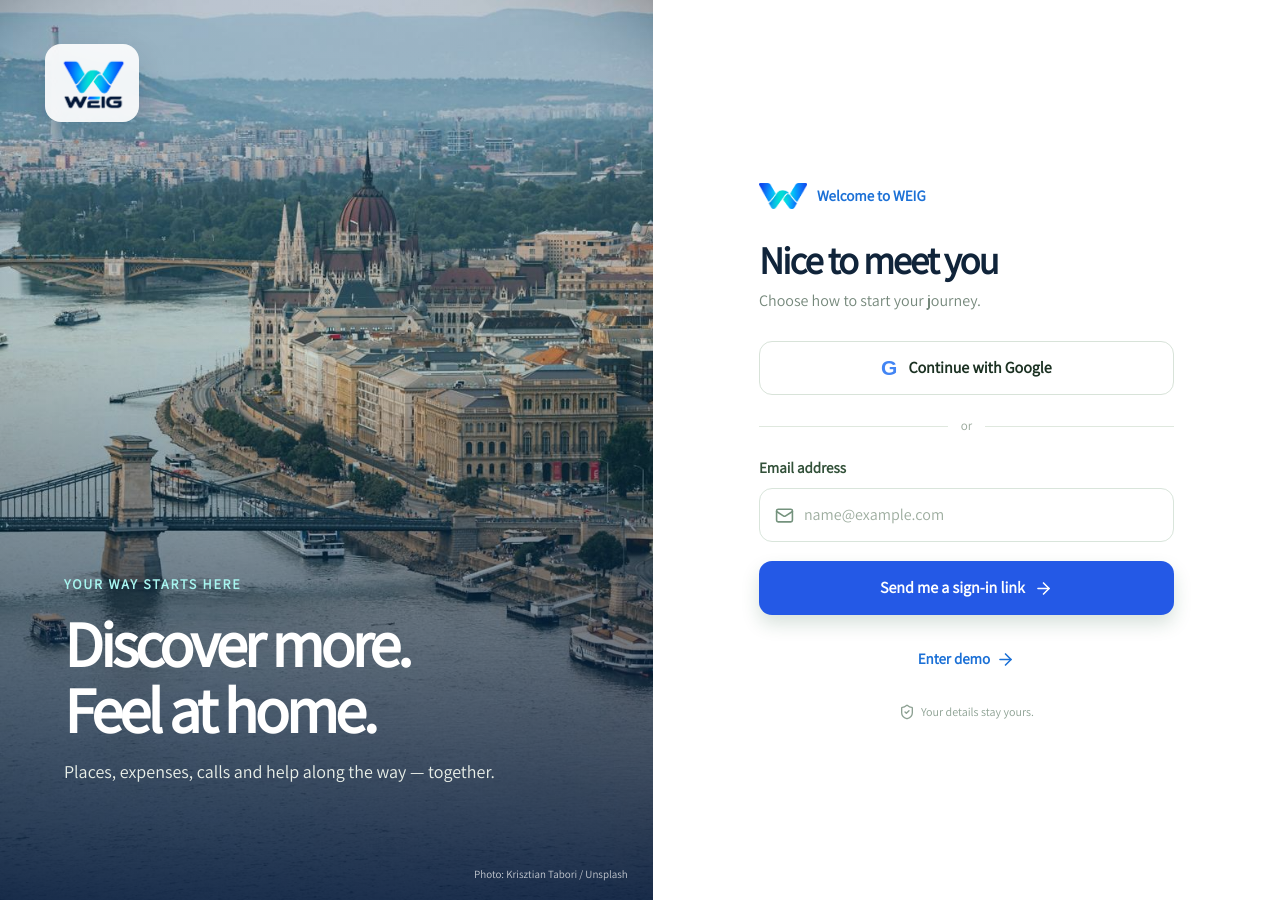
Test case: Milestone 2 experiences › continues email authentication to the sign-in-link state
In the field labelled "Email address": (981, 515) [804,503,1158,527], type "demo@example.com"
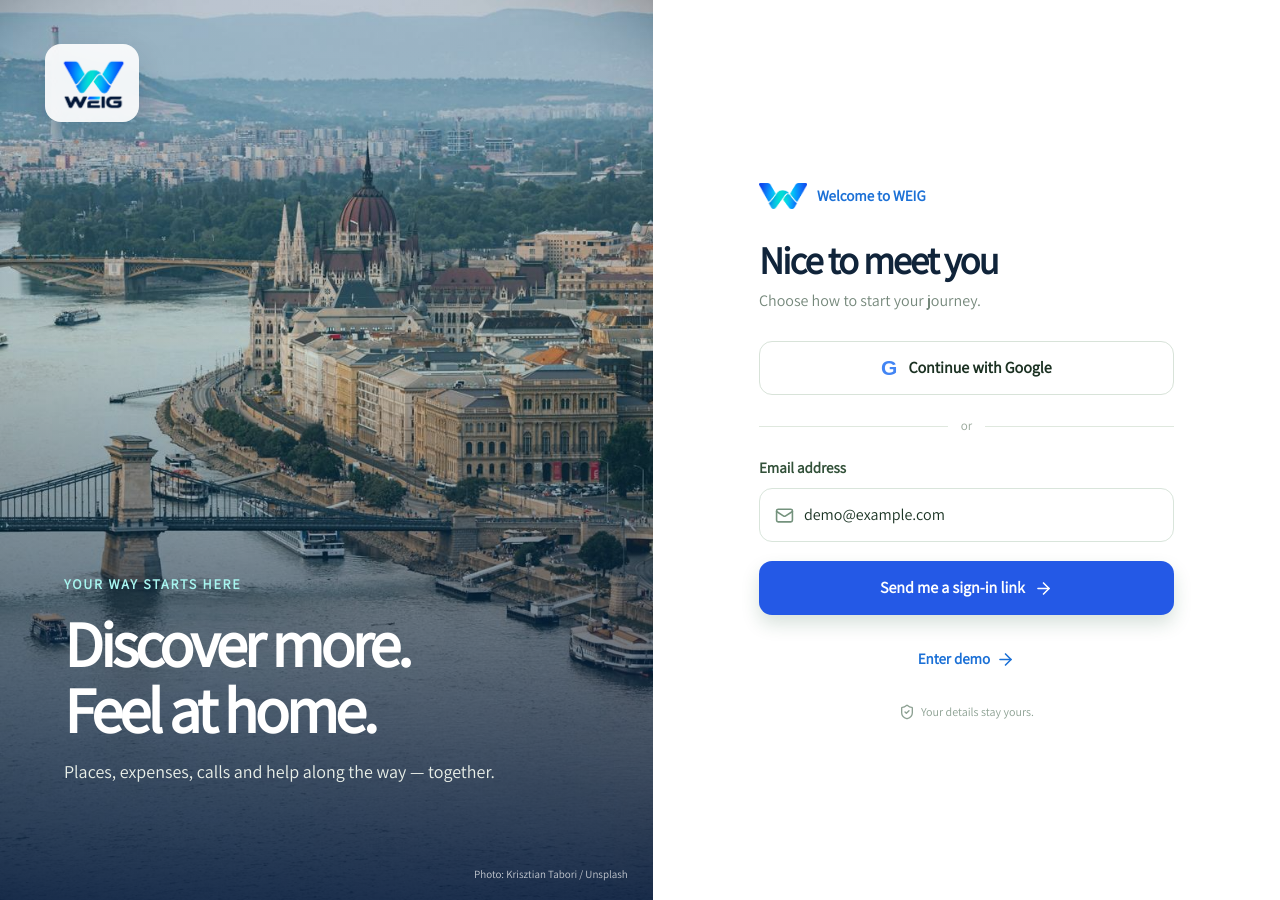
Click the button "Send me a sign-in link": (966, 588) [759,561,1174,615]
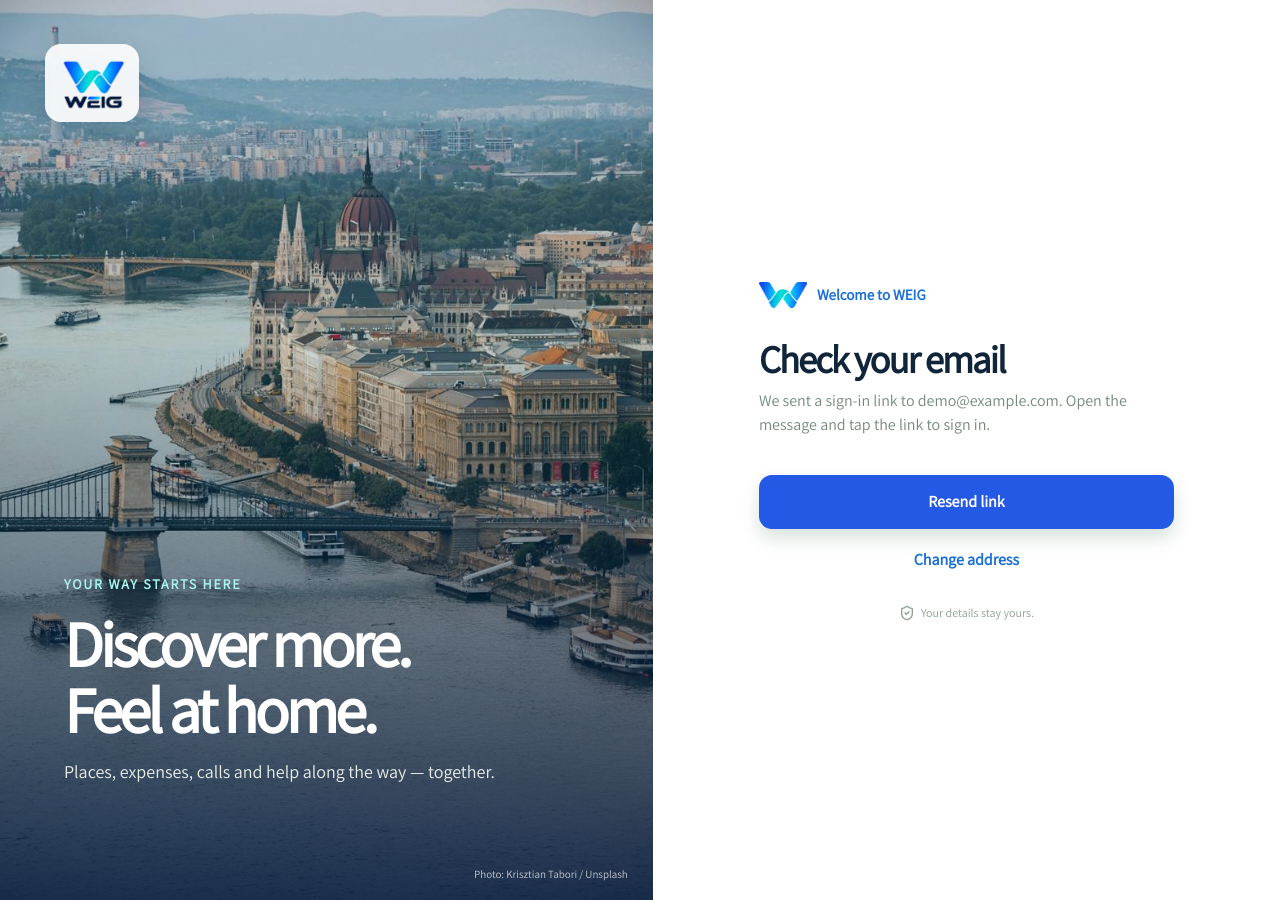
Expected: the heading "Check your email" is shown, [759,334,1005,384]
Expected: the text "Open the message and tap the link to sign in" is shown, [759,390,1127,435]
